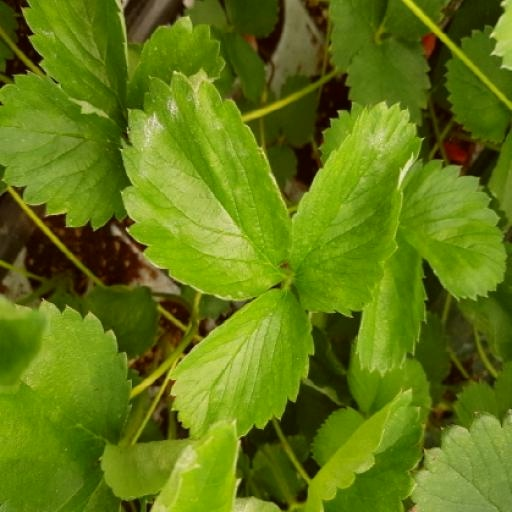Powdery Mildew Leaf: (218, 212, 393, 442), (88, 194, 220, 411), (270, 0, 362, 95)
